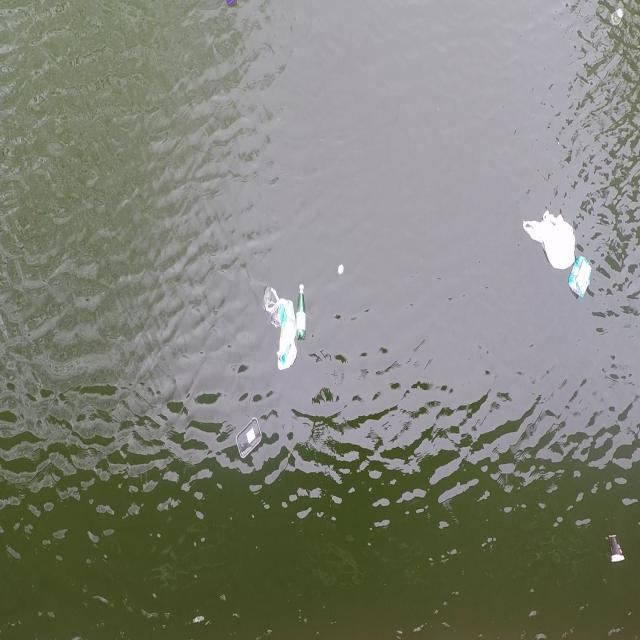Autre plastique: (234, 412, 266, 463)
Bouteille plastique: (295, 282, 309, 342)
Non plastique: (605, 528, 629, 572)
Sac plastique: (522, 206, 576, 272), (263, 284, 297, 374)
